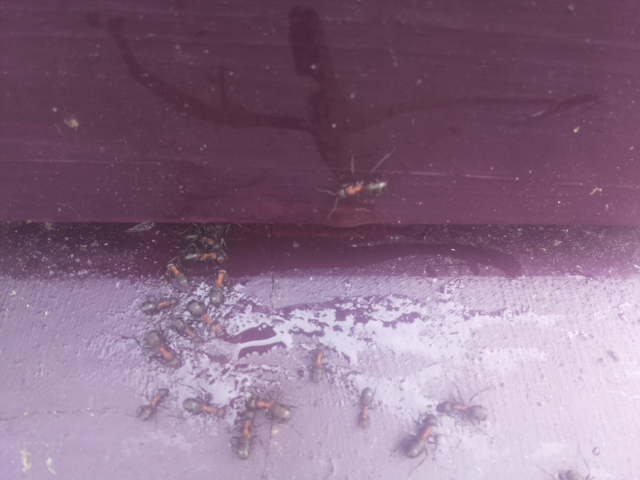ant: (177, 291, 232, 344), (137, 322, 186, 375), (400, 407, 444, 463), (230, 392, 266, 460), (431, 389, 492, 429), (131, 383, 176, 425), (248, 392, 299, 429), (352, 380, 380, 434), (336, 178, 395, 203), (205, 265, 231, 309), (184, 393, 225, 420), (163, 260, 194, 290), (139, 295, 175, 315), (309, 346, 326, 386)
